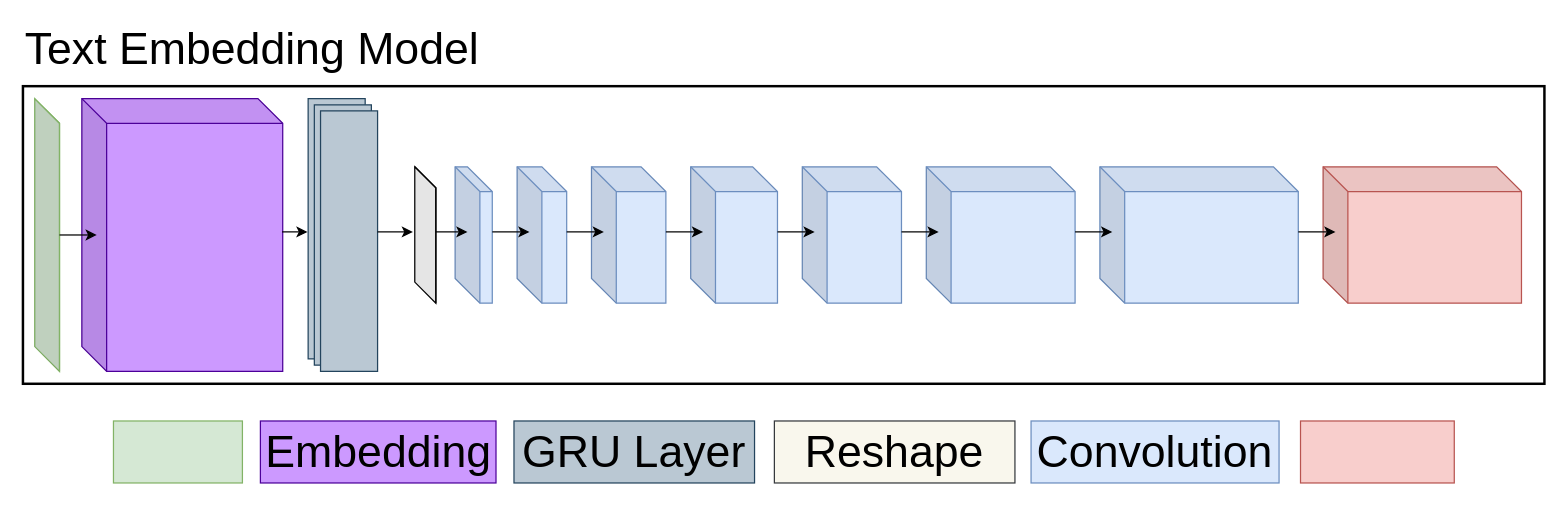
Image size: 1566x505. Some labels were removed from this diagram. Each missing label, with the centre of its shape:
"Input" goes at point 177,451.
"Output" goes at point 1376,451.
